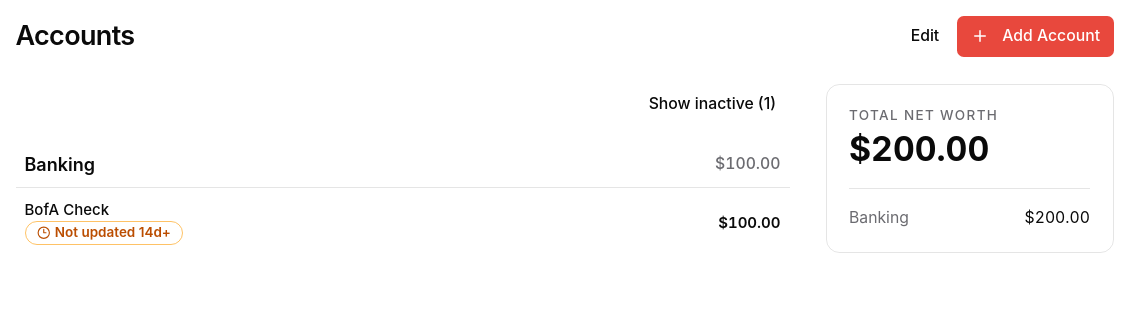
Test: Accounts page -- inactive accounts › hides inactive accounts by default and reveals them via the toggle
The image size is (1131, 334).
Expected: the text "BofA Check" is shown, [24,200,109,218]
Expected: the text "PUMB Legacy" is not shown
// Toggle appears with the inactive count and reveals the inactive account.
Step 1. Click the button "Show inactive (1)" → (712, 104), box [635,84,790,124]
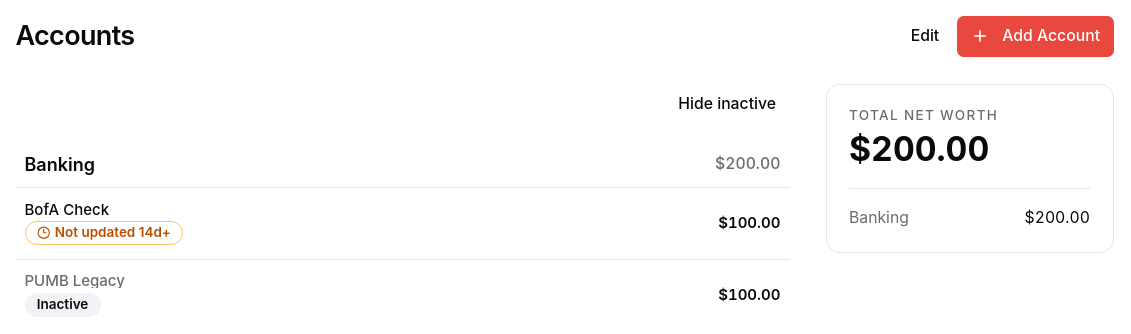
Result: the text "PUMB Legacy" is shown at [24,272,125,290]
Result: the text "Inactive" is shown at [24,293,101,318]
// Toggling again hides it.
Step 2. Click the button "Hide inactive" → (727, 104), box [665,84,790,124]
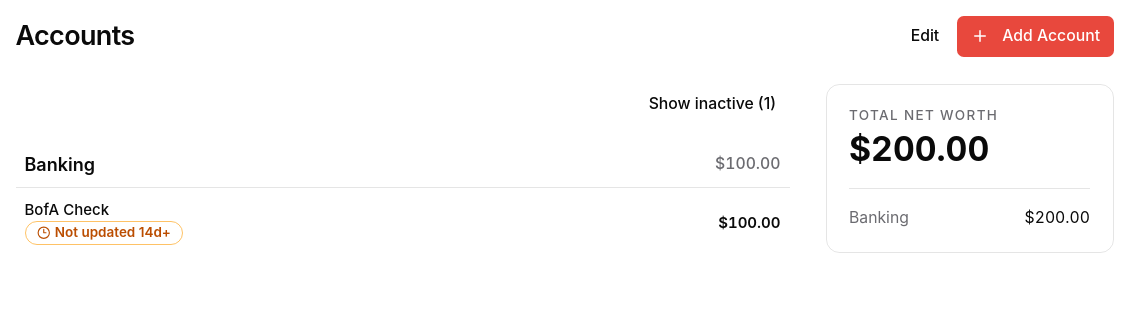
Result: the button "PUMB Legacy" is gone
